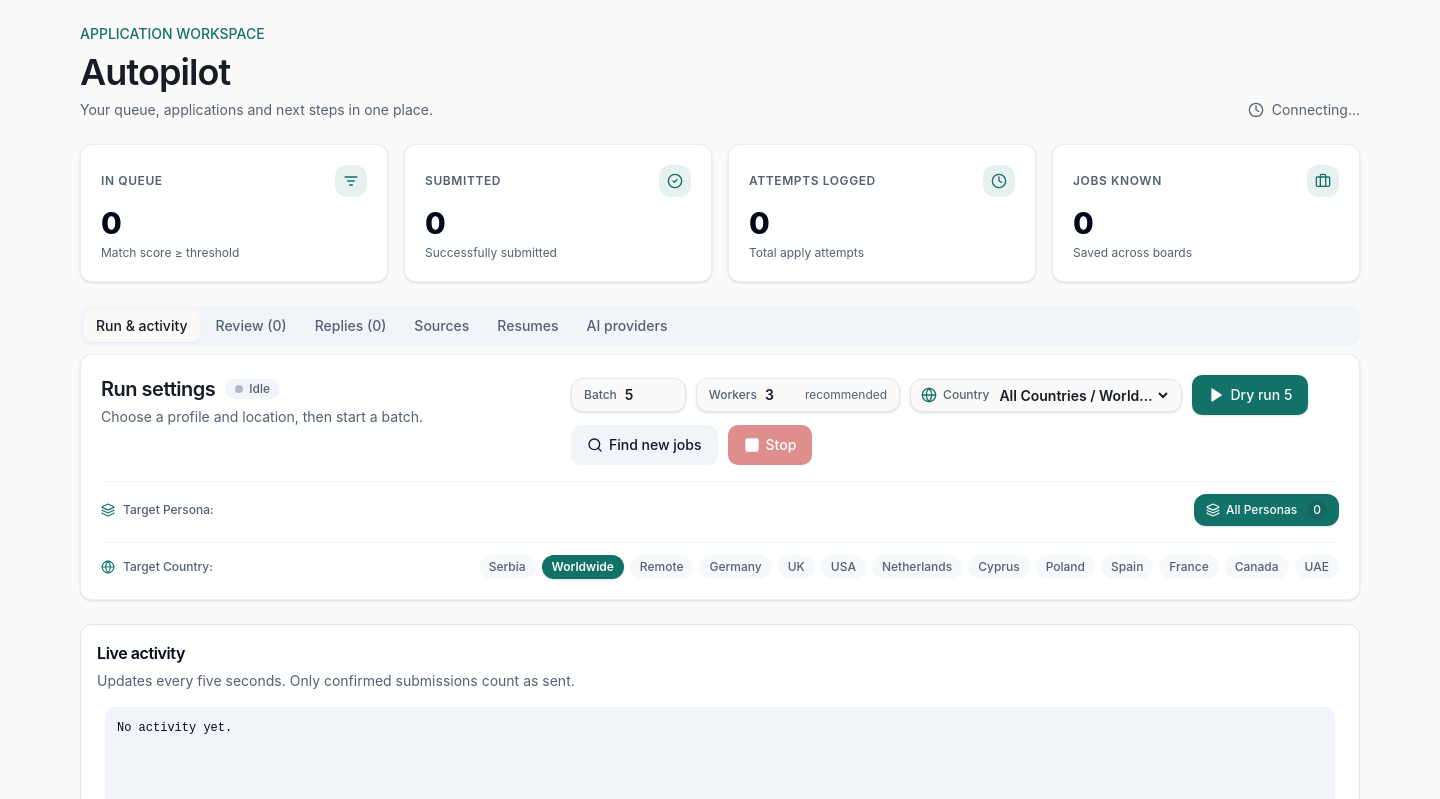
Test case: shows the reason for a manual answer and expands verified CV evidence
The width and height of the screenshot is (1440, 799).
Step 1. Click the tab "Review (0)" → (251,326), box [204, 310, 299, 342]
(page scrolled)
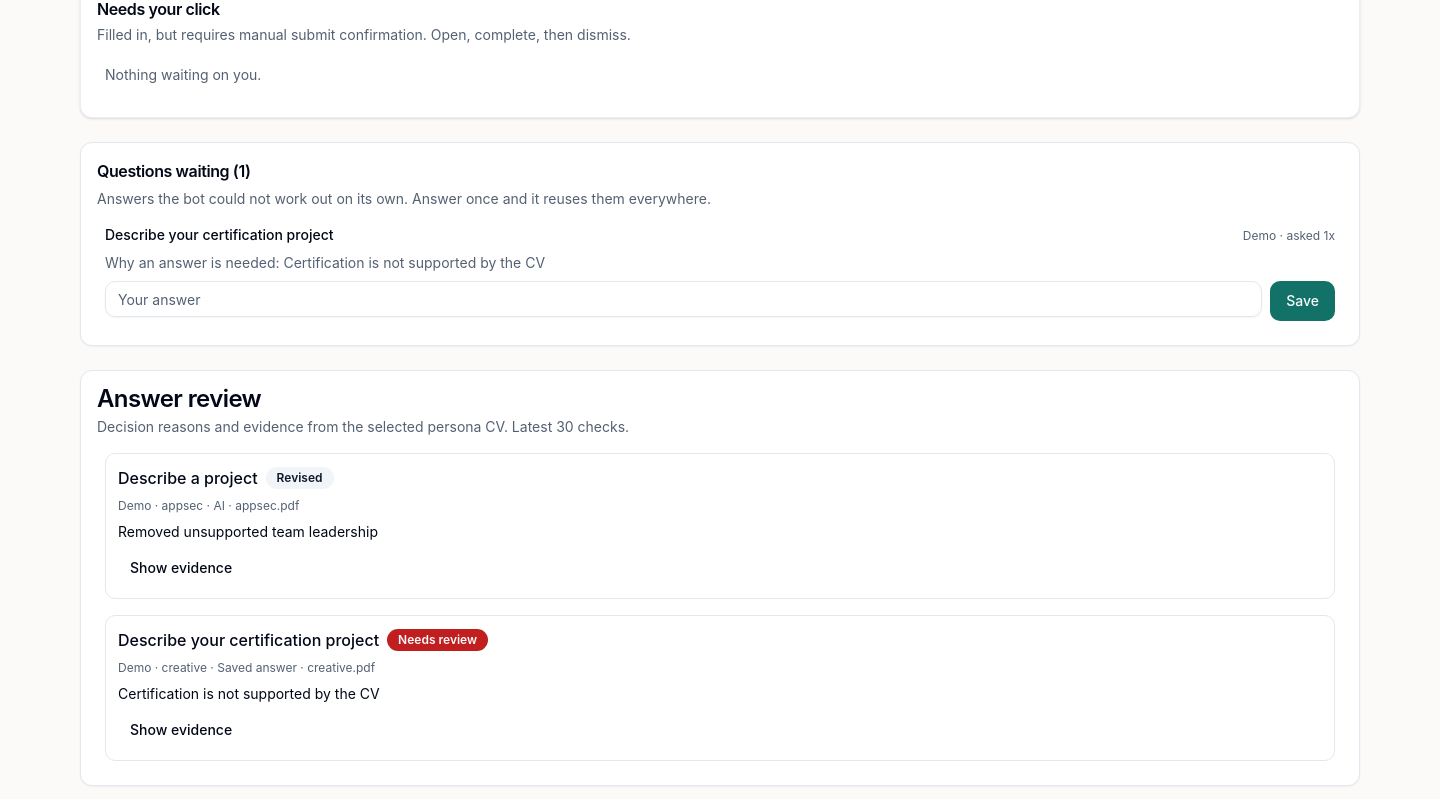
Now the heading "Answer review" is shown, box [97, 384, 261, 413]
Now the text "Why an answer is needed: Certification is not supported by the CV" is shown, box [105, 254, 545, 271]
Now the text "Revised" is shown, box [266, 467, 334, 489]
Step 2. Click the button with aria-label "Evidence: Describe a project" → (181,568), box [118, 550, 244, 586]
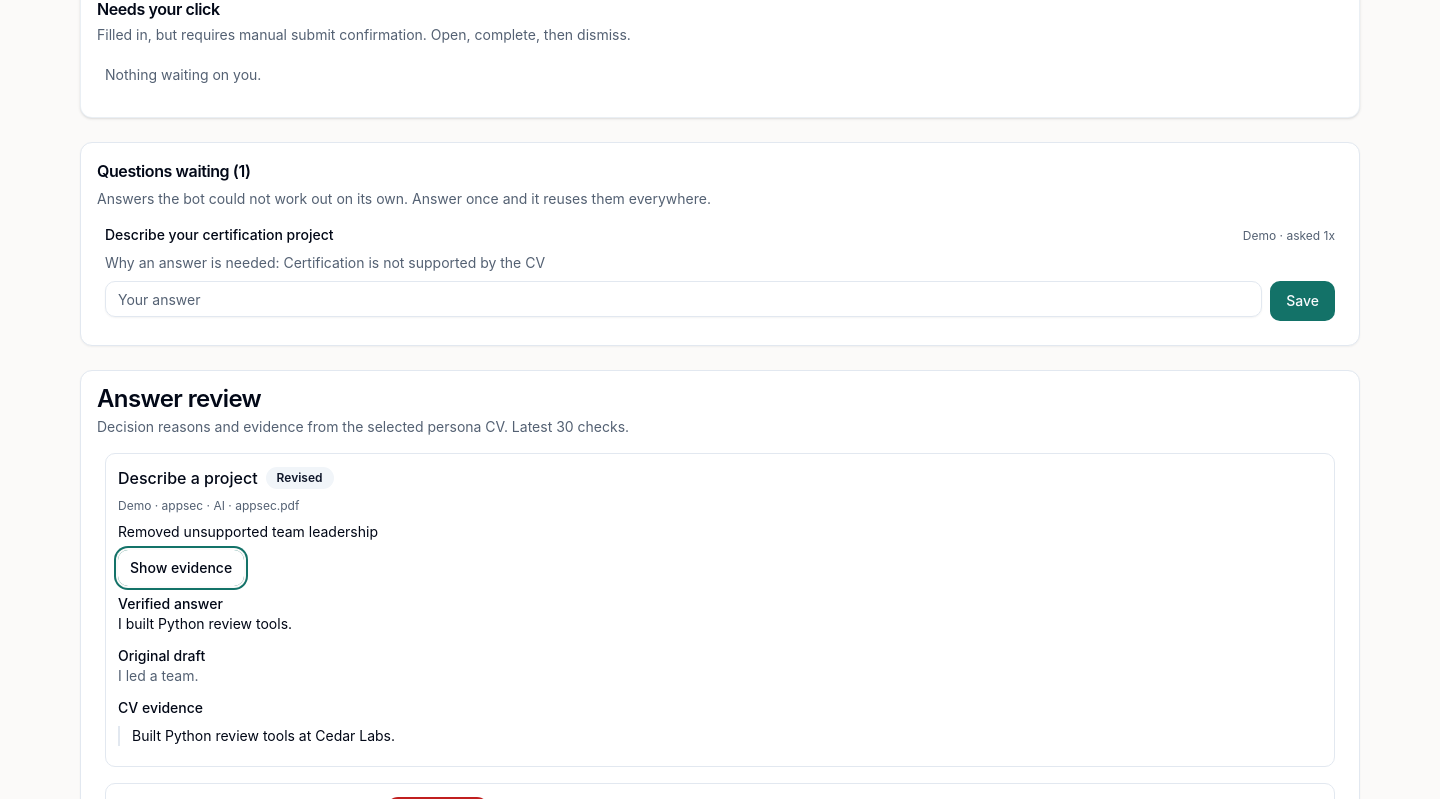
Now the text "Built Python review tools at Cedar Labs." is shown, box [118, 726, 1322, 746]
Now the text "I built Python review tools." is shown, box [118, 615, 292, 632]
Now the text "I led a team." is shown, box [118, 667, 198, 684]
